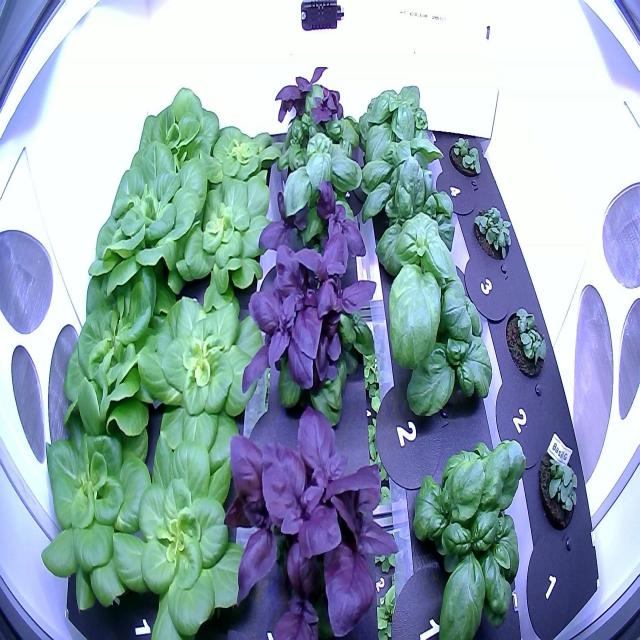germination: (532, 435, 583, 542), (502, 298, 554, 388), (444, 126, 486, 185)
young: (108, 426, 256, 640), (27, 397, 162, 623), (127, 286, 266, 464), (54, 260, 185, 446), (80, 138, 210, 308), (164, 167, 282, 309), (124, 77, 224, 209), (190, 107, 286, 203)
